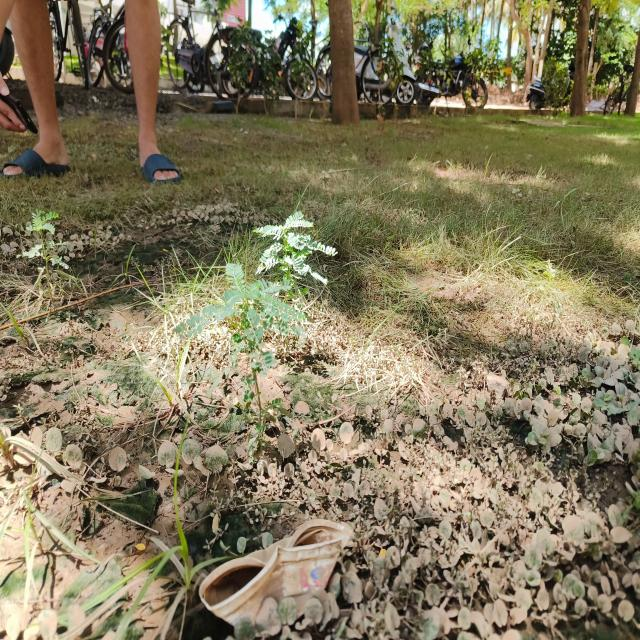weed: (177, 209, 339, 428)
